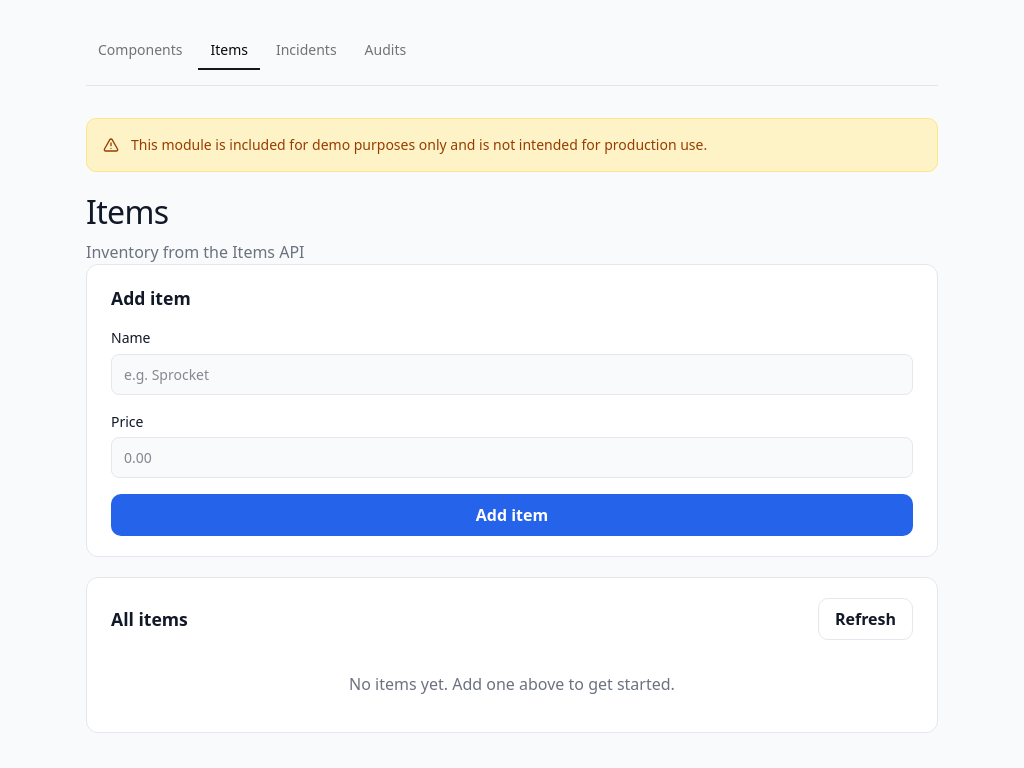
App › shows name required alert when submitting with empty name
Expected: the text "No items yet. Add one above to get started." is shown, [349, 673, 675, 695]
What coordinates should you click on to do the following:
click the button "Add item"
I would click on:
 (512, 515)
Its box is [111, 494, 913, 536].
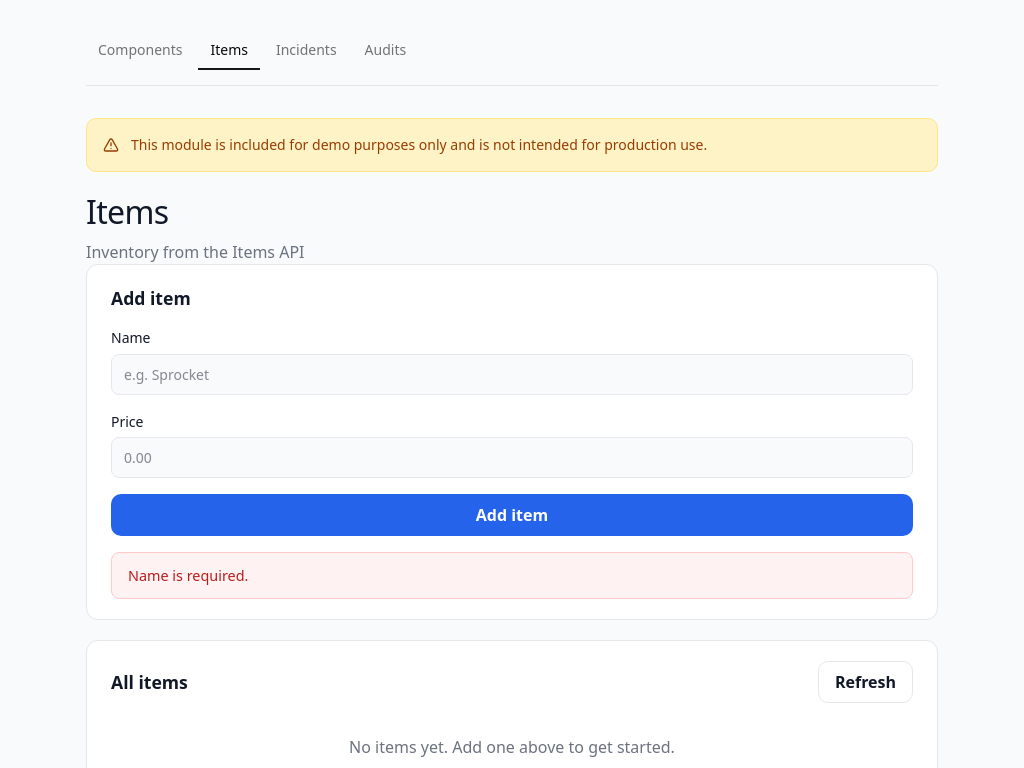
Now the text "Name is required." is shown, box [111, 552, 913, 599]
